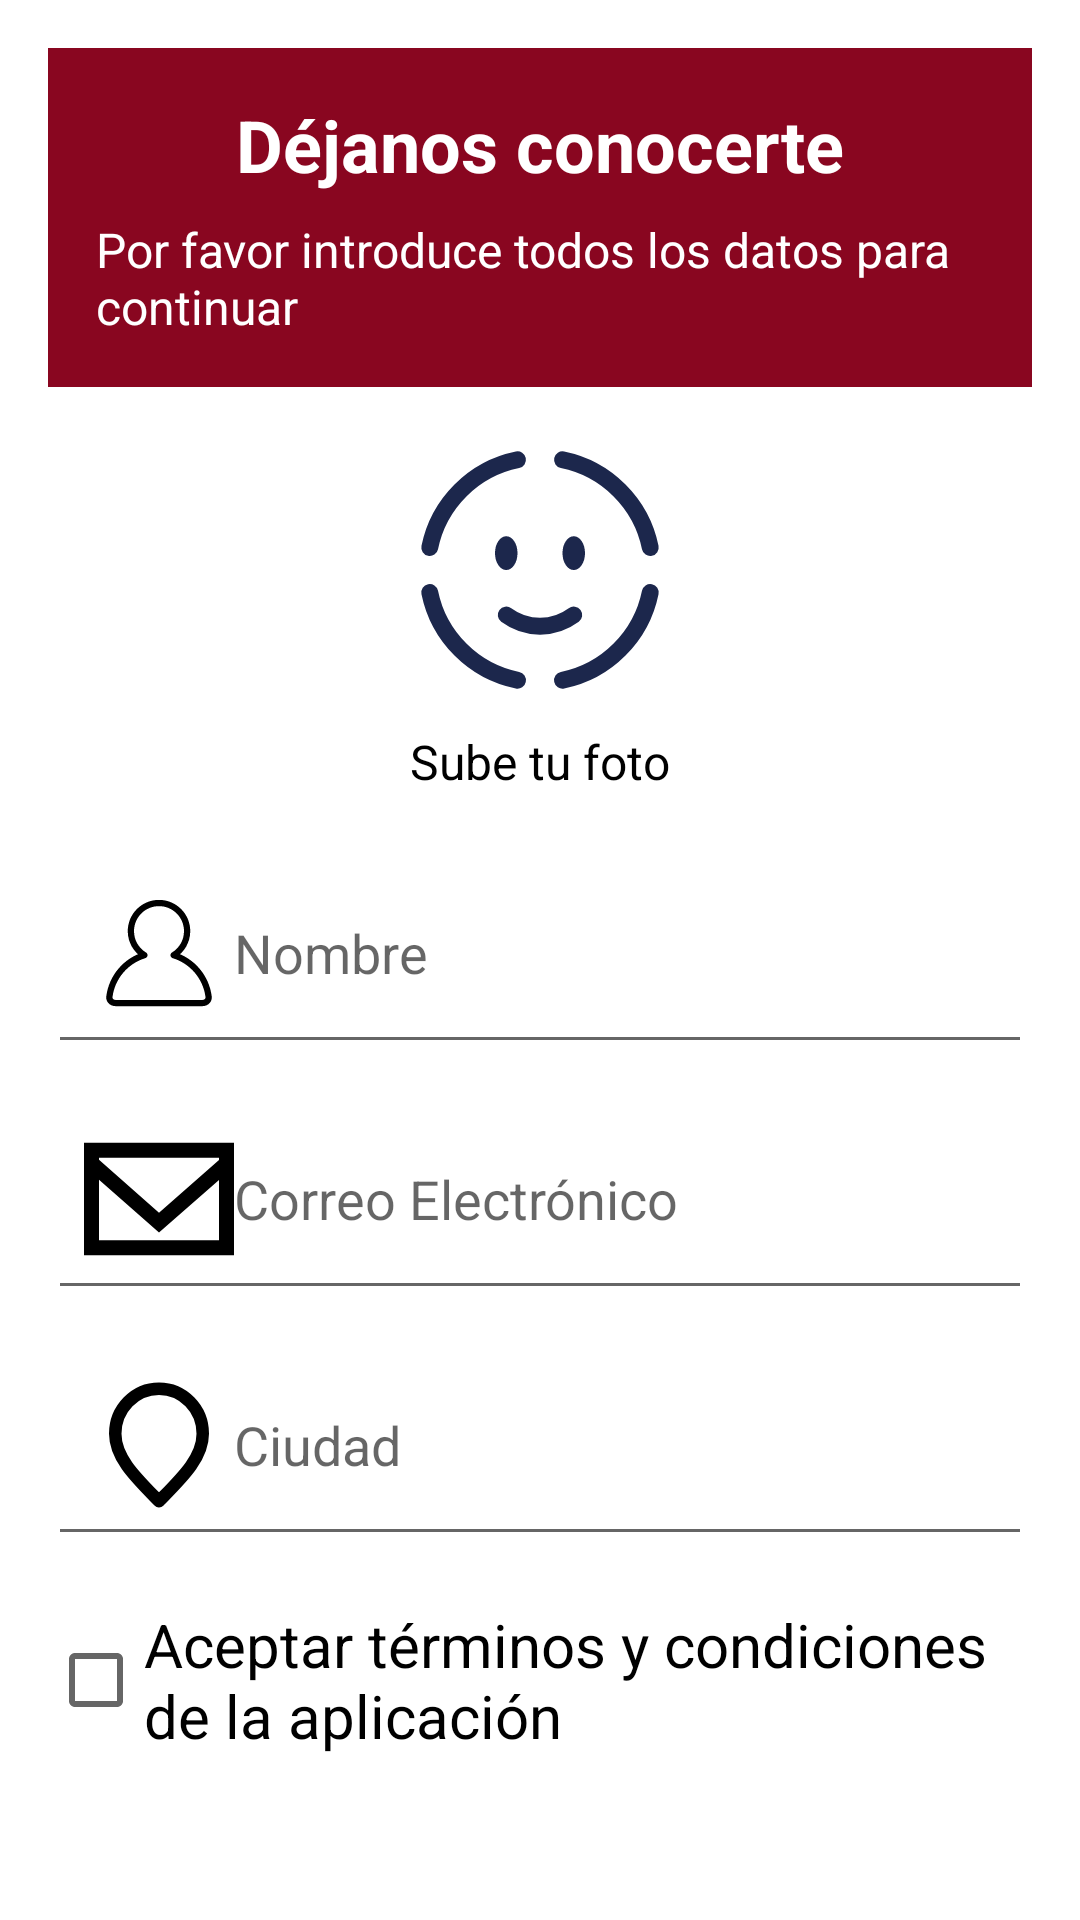

Named icons in this screenshot (1080 × 1920) and their bounding boxes, bbox(x1, y1, x2, y2):
faceid: bbox(421, 451, 659, 689)
